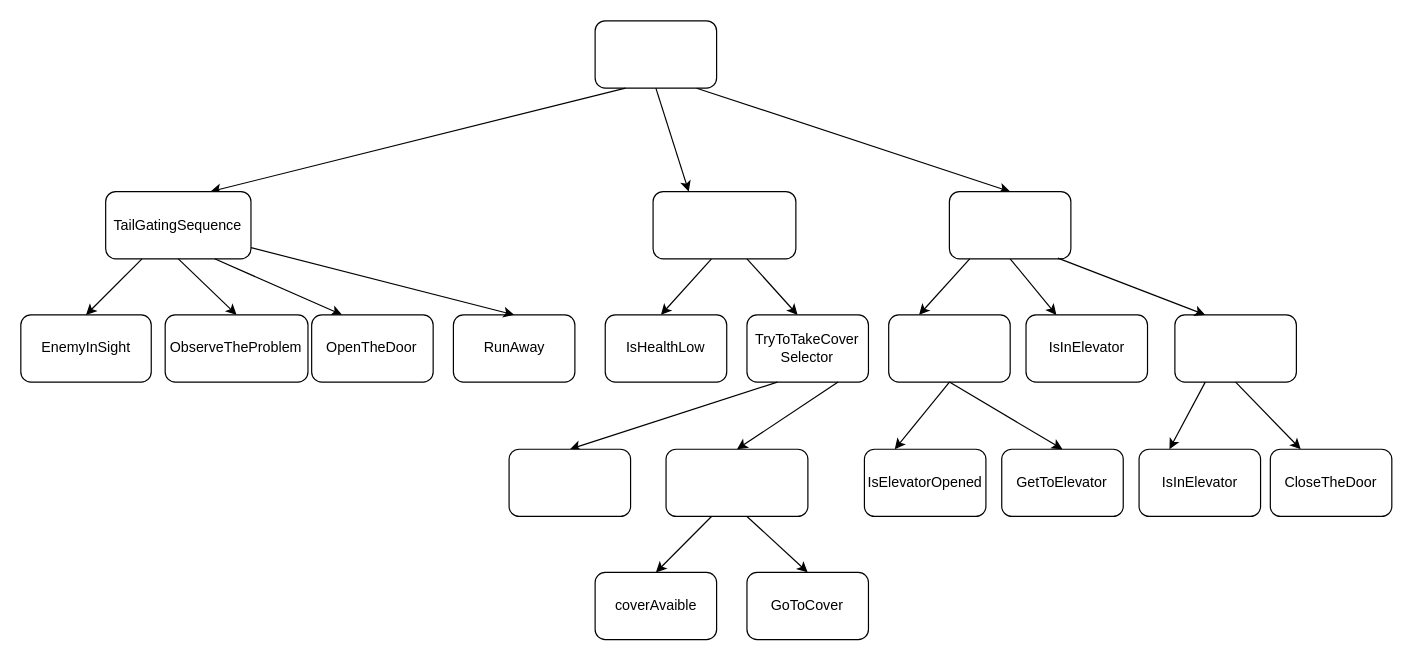
The diagram is 1414 pixels wide and 660 high, and some of its shapes have lost their labels. Each missing label, with the centre of its shape:
CloseTheDoor Sequence: [949,348]
ElevatorSelector: [1009,224]
GoToCoverSequence: [736,482]
GoToElevator Seqeunce: [1235,348]
IsCovered: [569,482]
MainCoverSequence: [724,224]
TopNodeSelector: [655,54]
